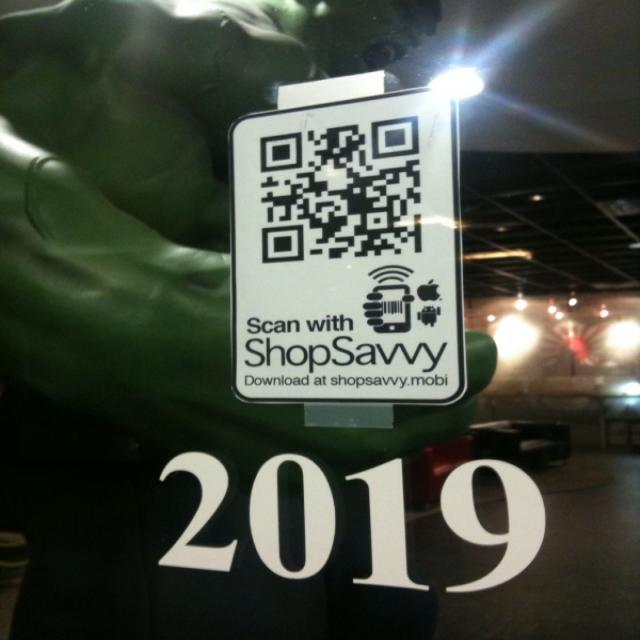qrcode: (262, 116, 423, 264)
